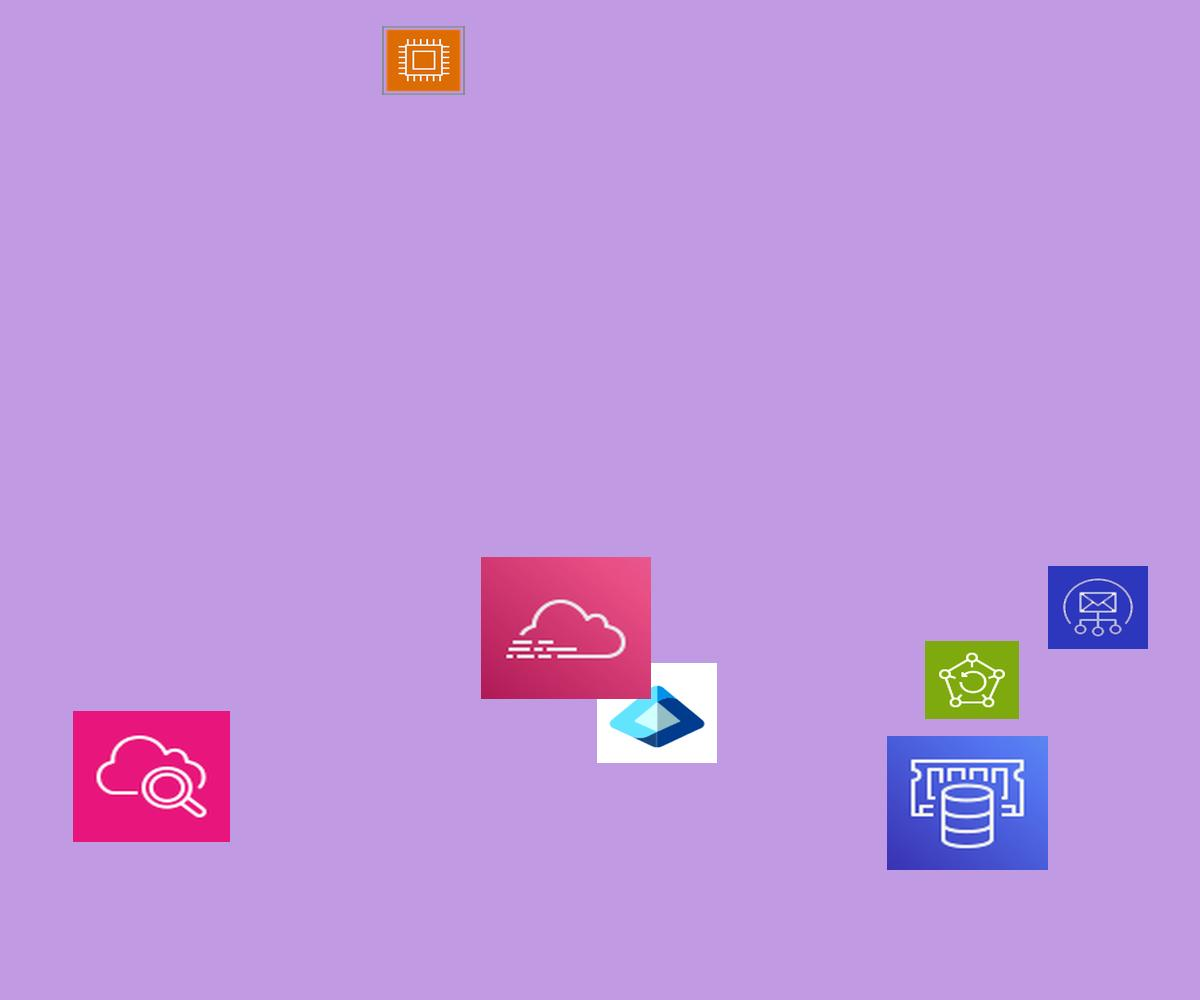AWS-Backup: (925, 641, 1019, 719)
AWS-Category_Compute: (382, 26, 465, 95)
AWS-CloudTrail: (481, 557, 651, 699)
AWS-CloudWatch: (73, 711, 230, 842)
AWS-ElastiCache: (887, 736, 1048, 870)
AWS-Simple-Email-Service: (1048, 566, 1148, 649)
Azure_microsoft_entra: (597, 663, 717, 763)
